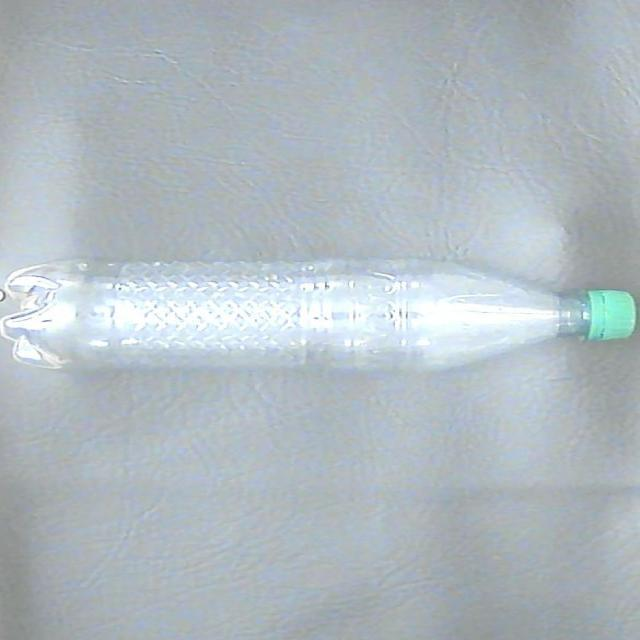good: (3, 252, 639, 380)
